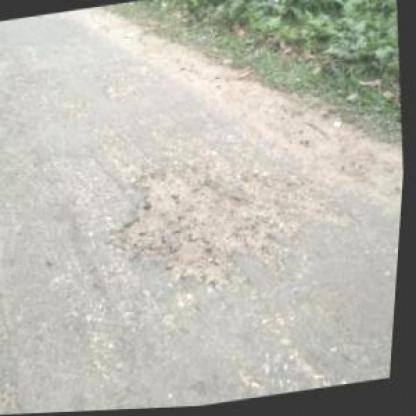pothole: (110, 154, 274, 294)
